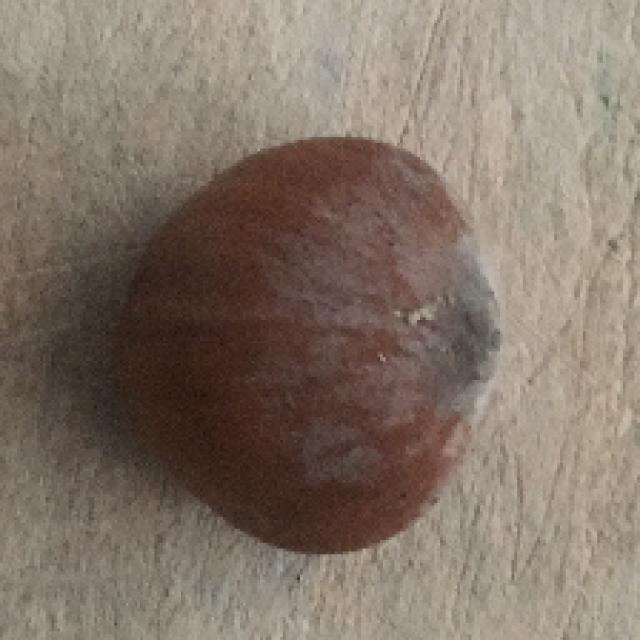qualityHazelnut: (104, 133, 502, 559)
